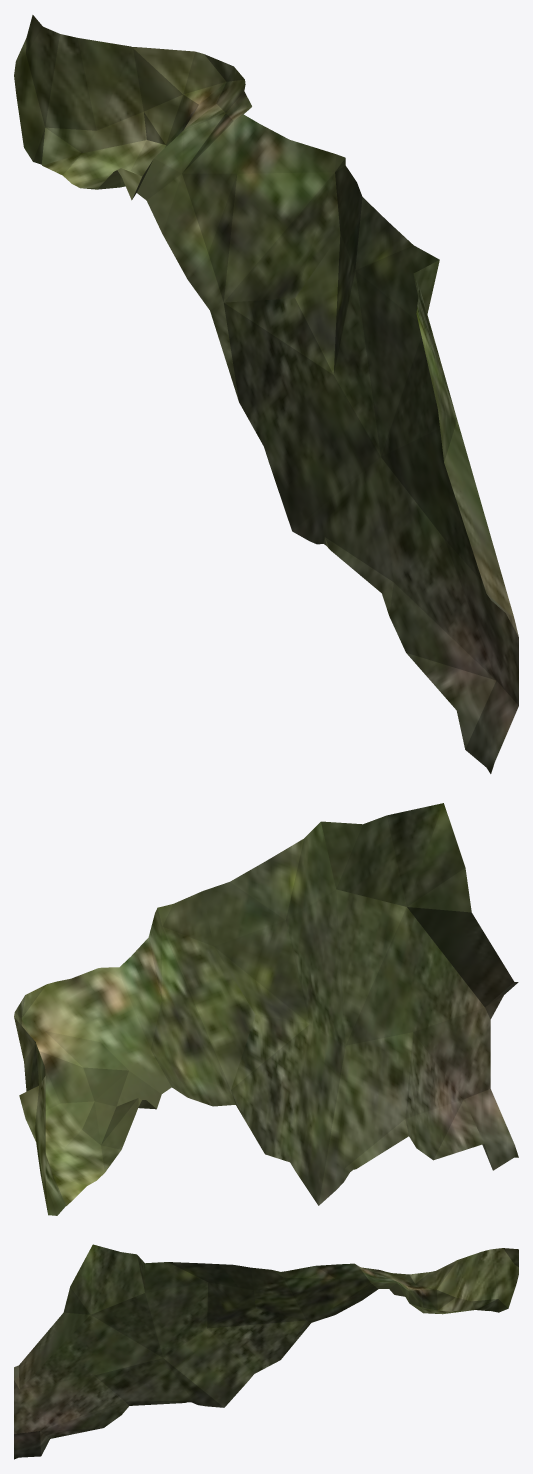
The picture shows the model from 3 angles, top to bottom: view 1: azimuth 30°, elevation 25°; view 2: azimuth 150°, elevation 25°; view 3: azimuth 270°, elevation 25°; orthographic projection. The views are drawn at different scales.
Bounding box in the file's own units: 0.4153 × 1.39 × 2.95.
1 material, 1 textured.
